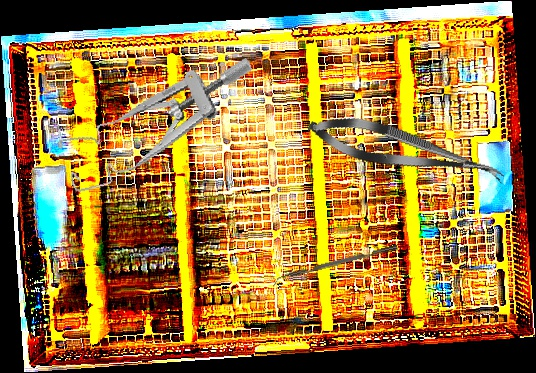Chopper: (271, 244, 400, 287)
Micro Scissor: (304, 106, 509, 195)
Speculum: (47, 53, 272, 197)
